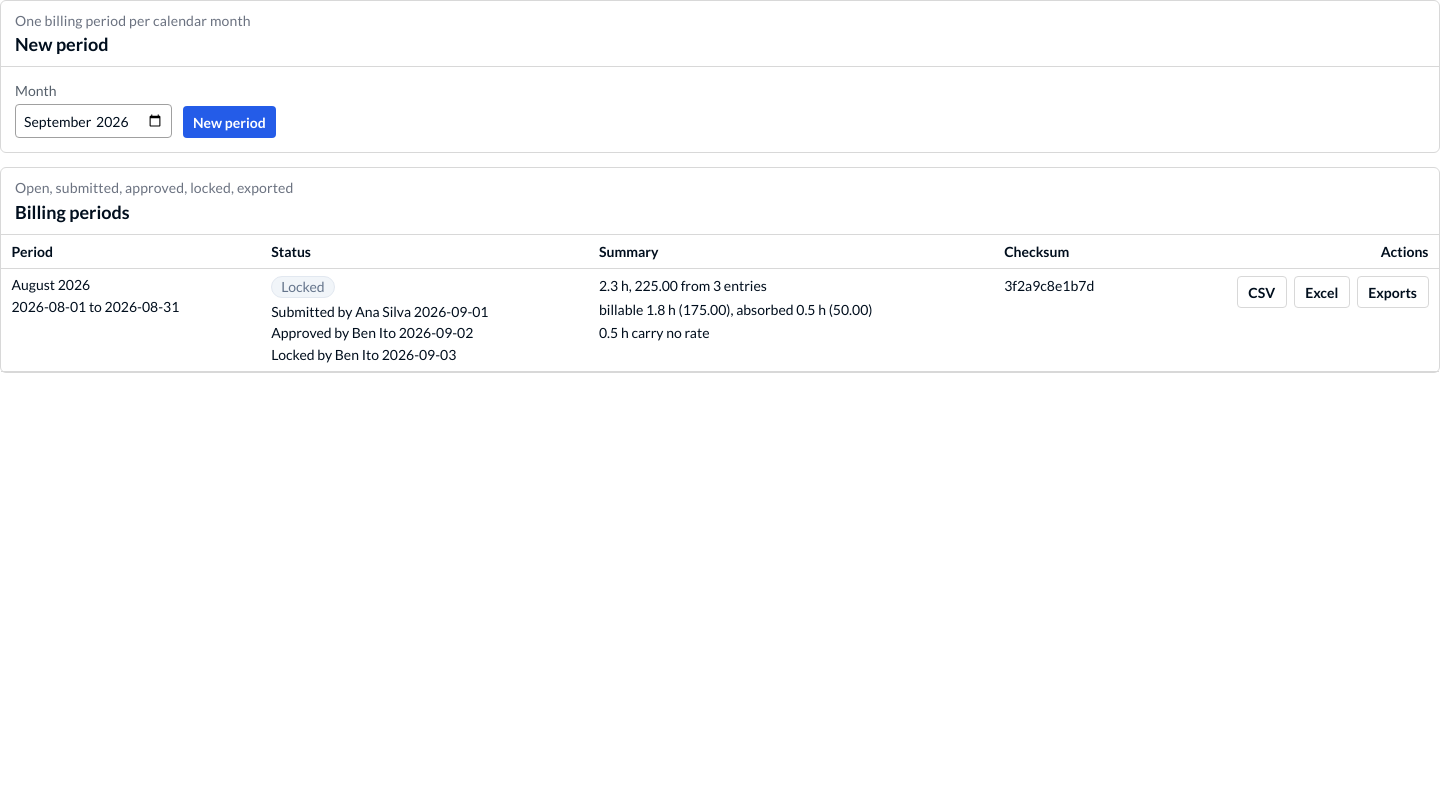
Scenario: BillingPeriodsTab › exports a locked period as CSV or Excel through the bearer download, then lists the export records
The width and height of the screenshot is (1440, 810).
What coordinates should you click on to do the following:
click the button "CSV"
I would click on:
 (1262, 292)
Its box is x1=1237 y1=276 x2=1287 y2=308.
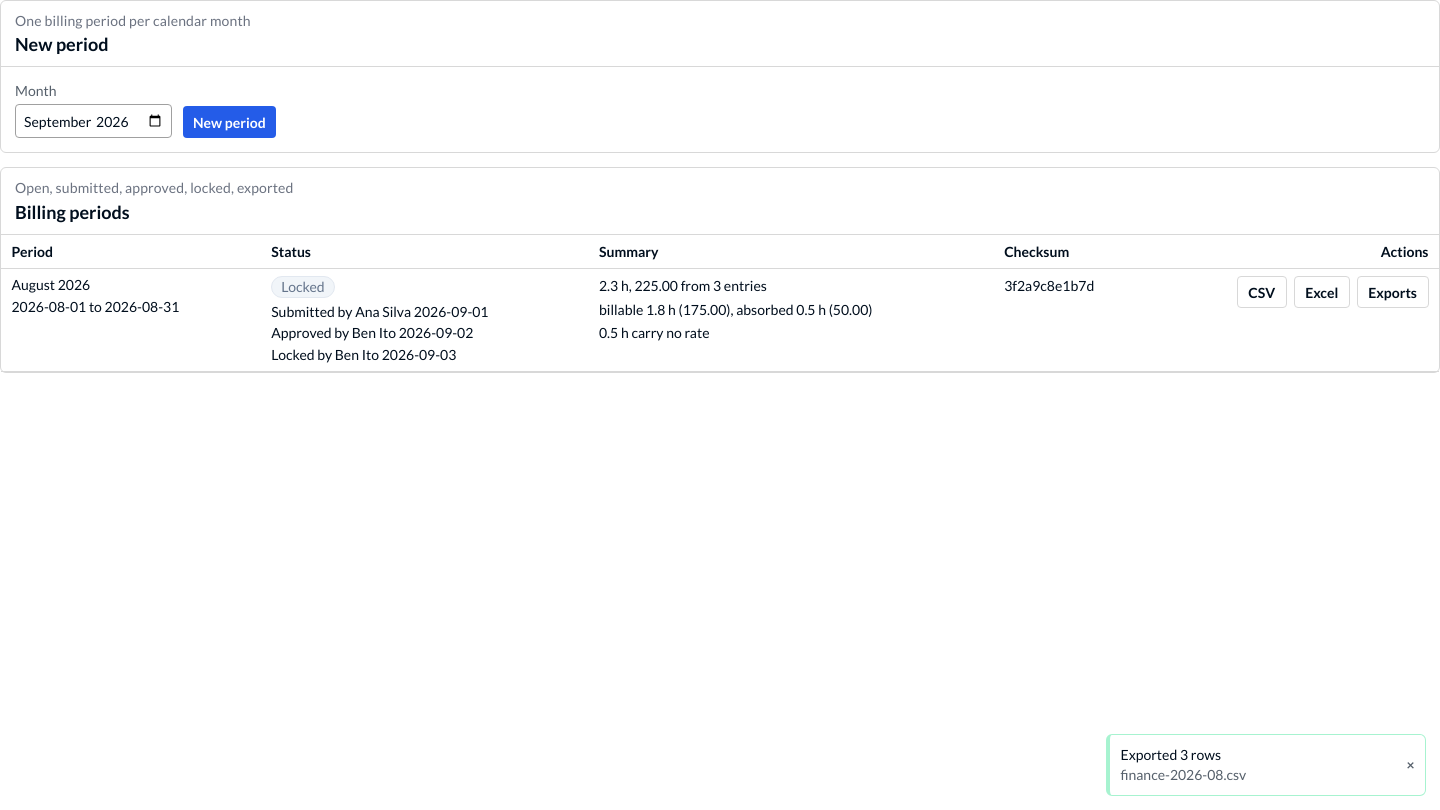
Result: the text "Exported 3 rows" is shown at x1=1120 y1=746 x2=1221 y2=763
What coordinates should you click on to do the following:
click the button "Excel"
I would click on:
 (1322, 292)
Its box is x1=1294 y1=276 x2=1350 y2=308.
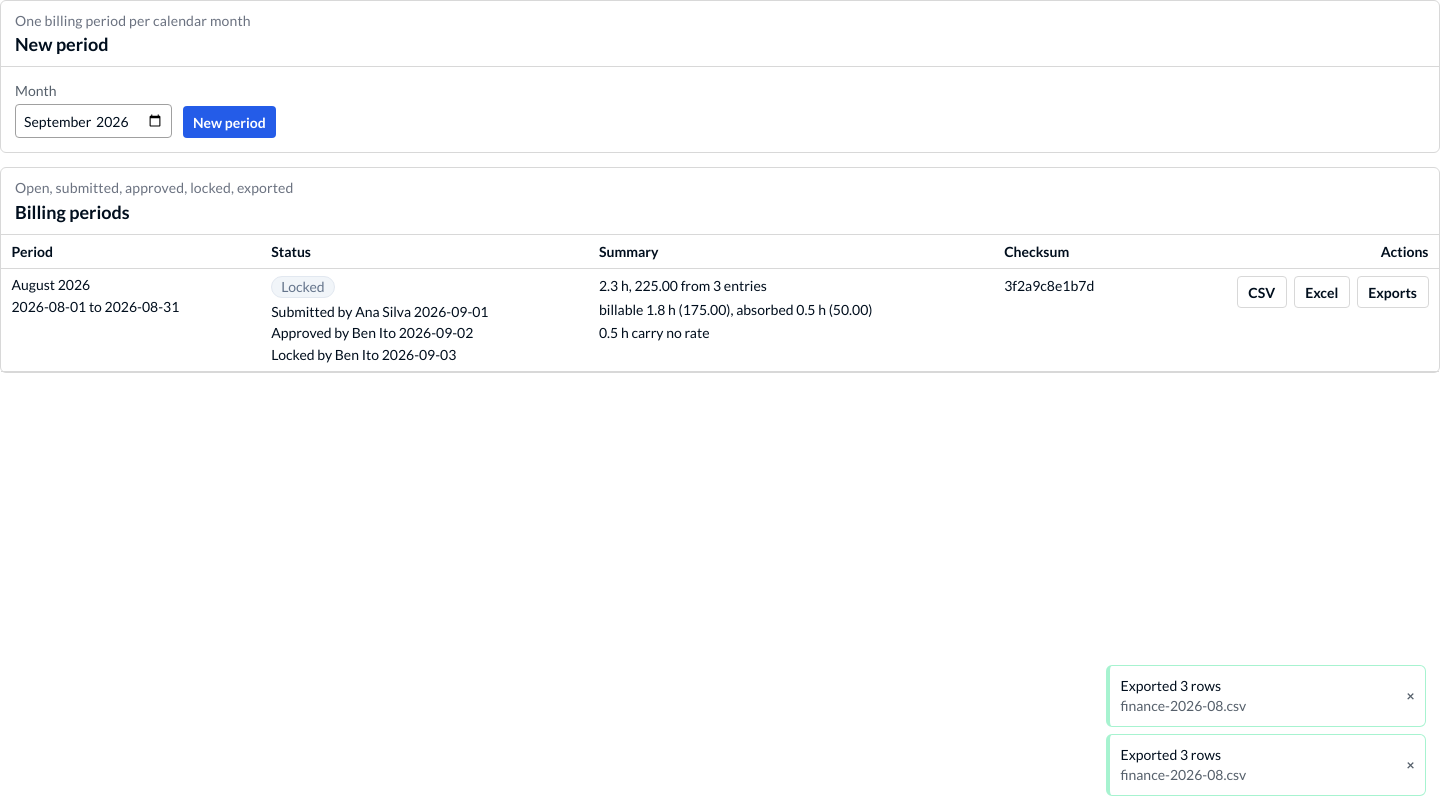
// The period's checksum and the export records are read again after a file is produced.
What coordinates should you click on to do the following:
click the button "Exports"
I would click on:
 (1393, 292)
Its box is x1=1357 y1=276 x2=1428 y2=308.
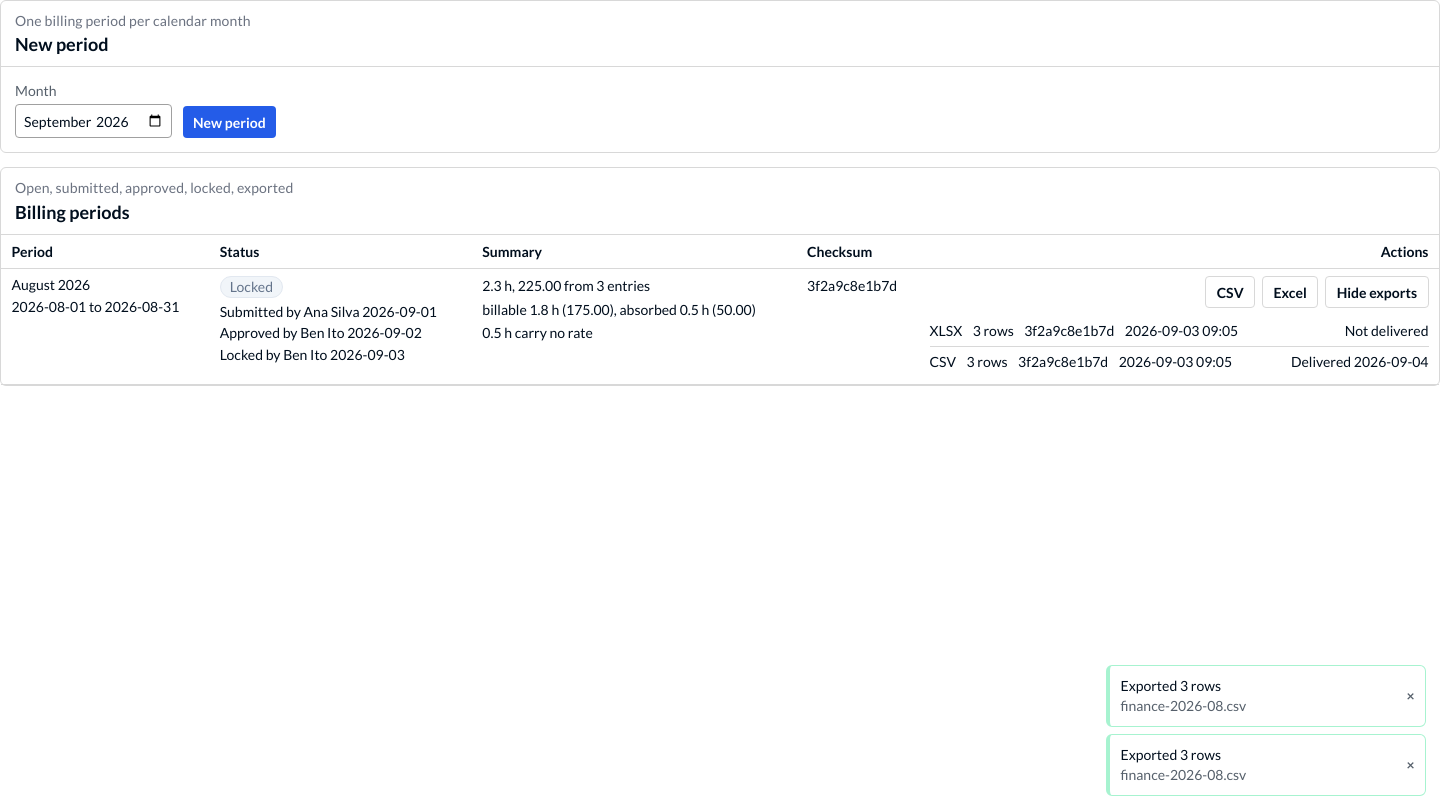
Result: the number of list items is 2 at x1=930 y1=316 x2=1428 y2=347; x1=930 y1=353 x2=1428 y2=370
Result: the list item "XLSX 3 rows 3f2a9c8e1b7d 2026-09-03 09:05 Not delivered" is shown at x1=930 y1=316 x2=1428 y2=347
Result: the text "3f2a9c8e1b7d" in the row of "XLSX" is shown at x1=1024 y1=322 x2=1114 y2=339
